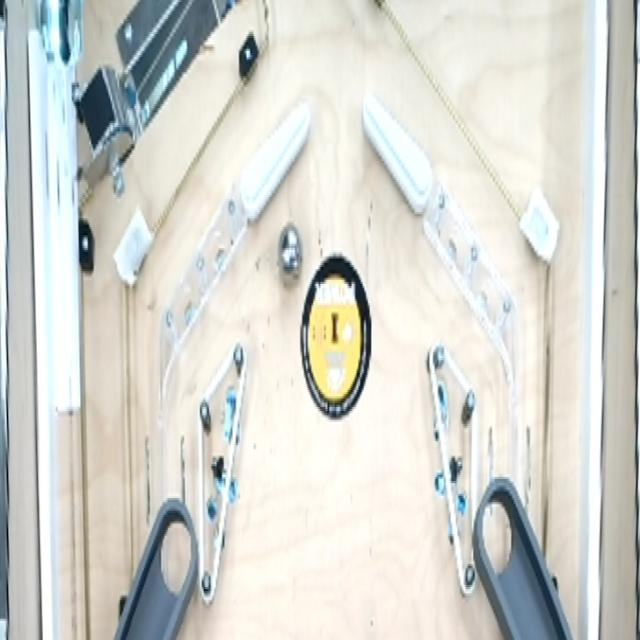ball: (274, 214, 304, 294)
flipper-left: (359, 87, 438, 220)
flipper-right: (236, 94, 312, 231)
